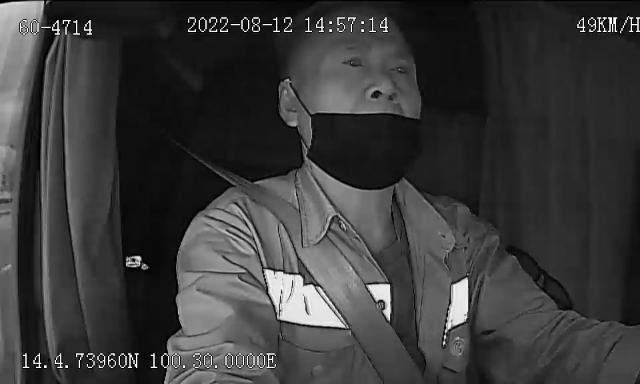SafeDriving: (382, 56, 416, 82), (338, 52, 372, 76)
Seatbelt: (211, 158, 454, 384)
